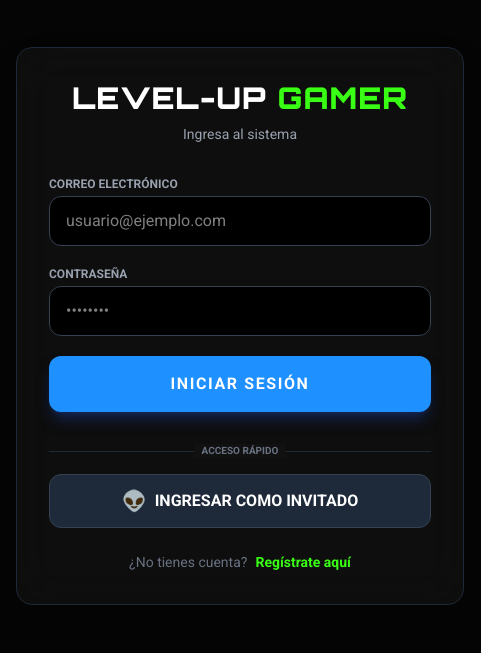
it: LoginPage Component › debería mostrar un error si el LOGIN falla
Type "fail@test.com" into the field with placeholder "usuario@ejemplo.com" at (240,221), box left=49, top=196, right=431, bottom=246
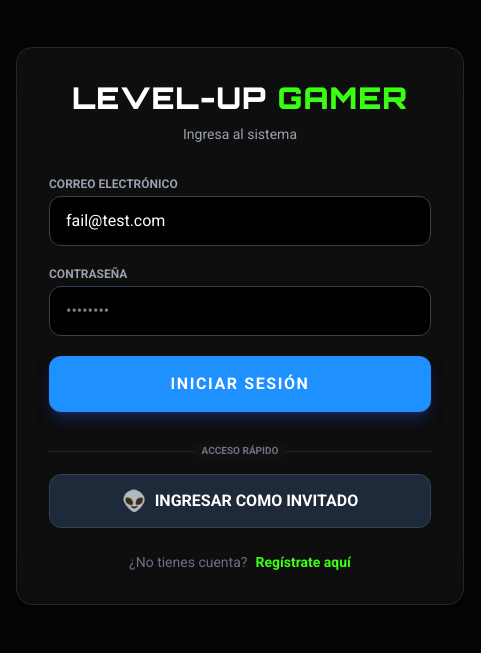
Type "wrongpass" into the password field with placeholder "••••••••" at (240,311), box left=49, top=286, right=431, bottom=336
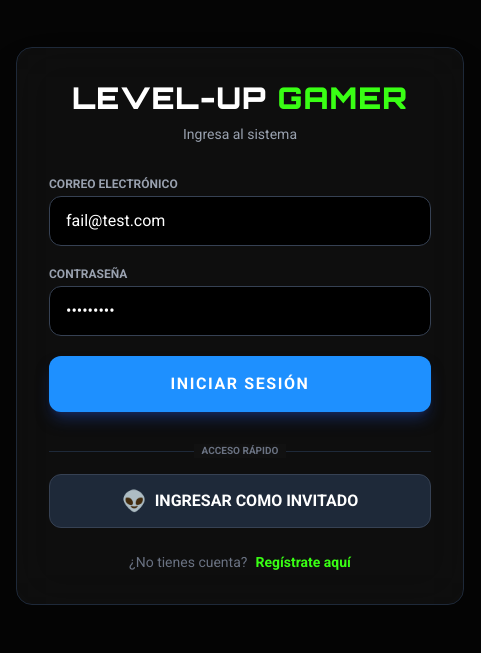
Click the button "Iniciar Sesión" at (240,384), box left=49, top=356, right=431, bottom=412
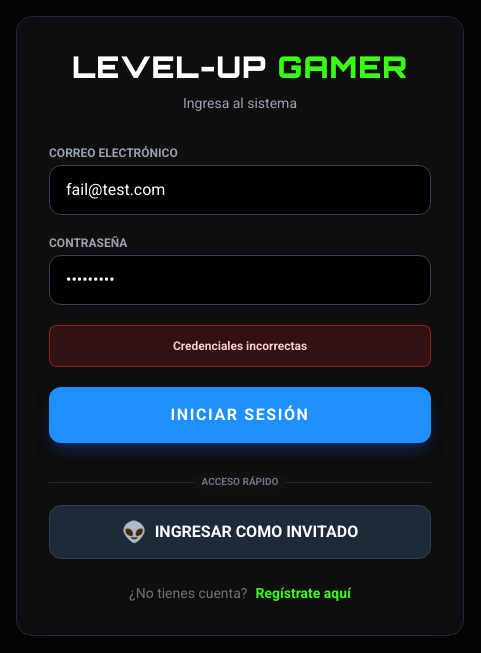
expect the text "Credenciales incorrectas" is shown: met, box left=49, top=325, right=431, bottom=367
